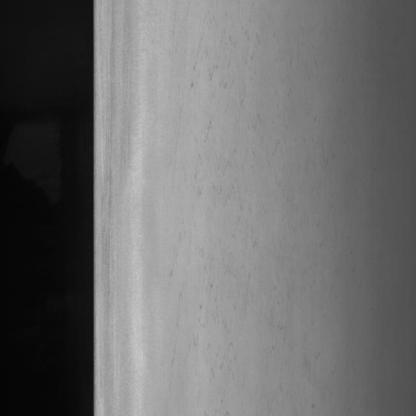silk_spot: (175, 38, 276, 357)
